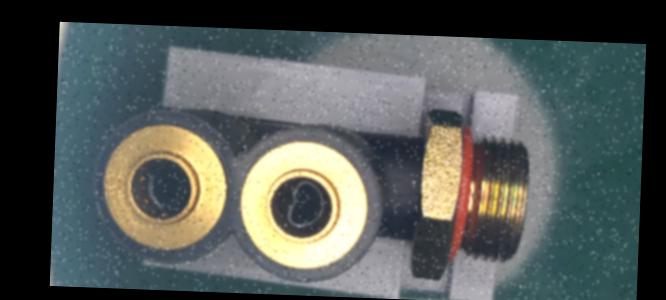off-centered: (277, 176, 334, 232), (137, 163, 187, 216)
